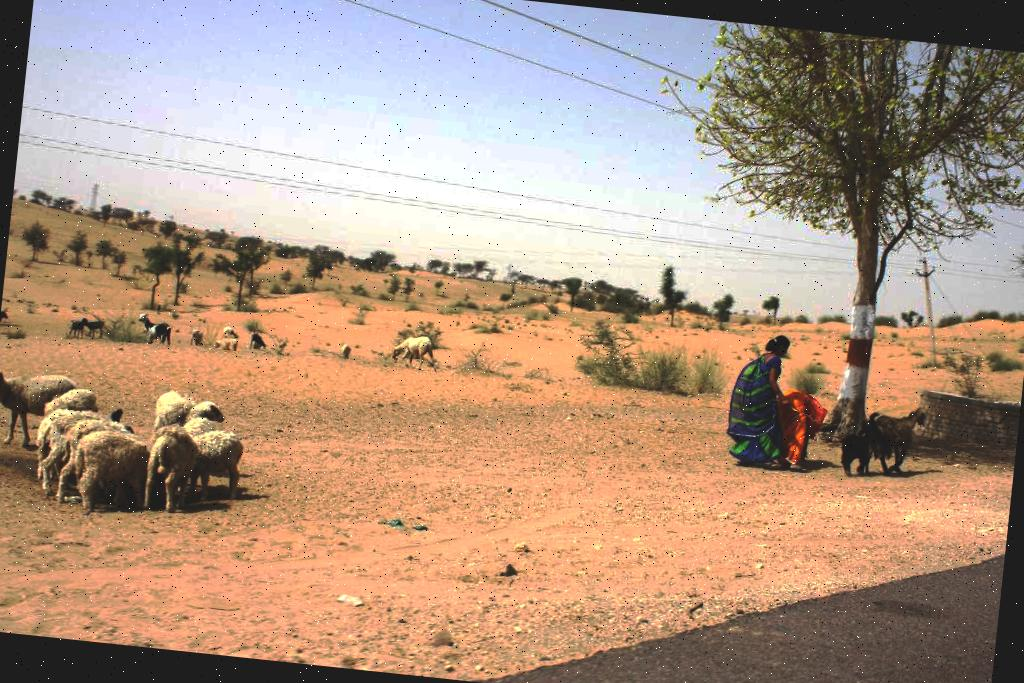Sheep: (42, 410, 142, 510), (68, 426, 166, 516), (0, 357, 82, 453), (139, 422, 201, 516), (181, 424, 249, 504), (166, 394, 228, 460), (388, 332, 440, 372)
